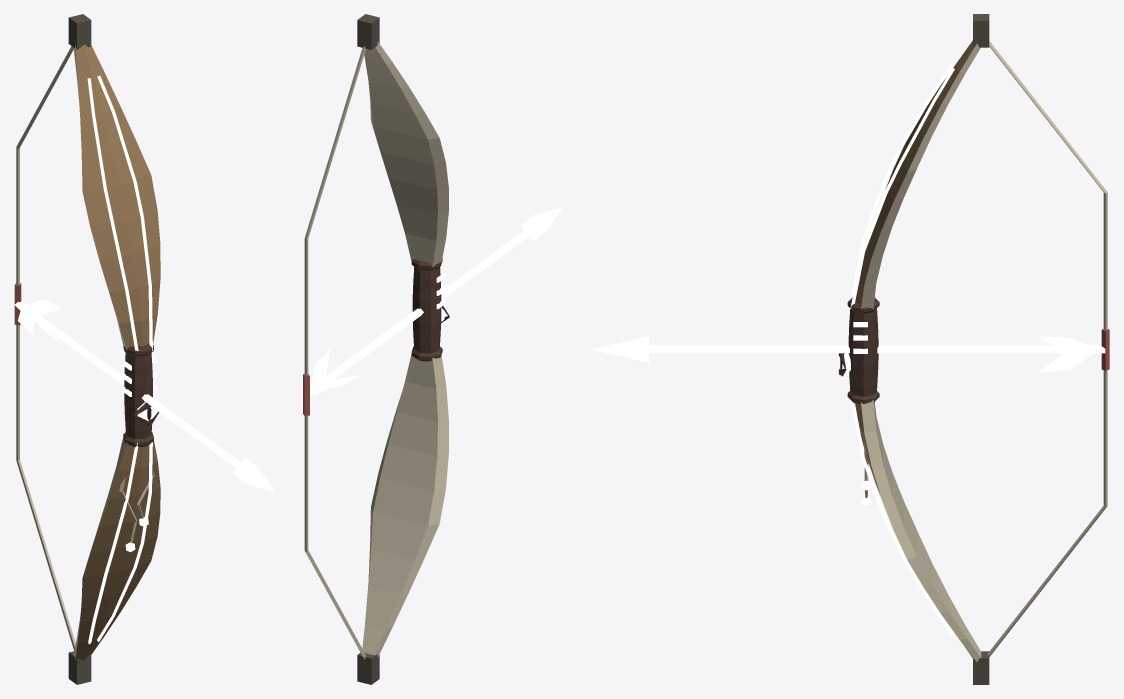
File: bow-held-breath.glb
3 views of the same model, side by side, from view 1: azimuth 30°, elevation 25°; view 2: azimuth 150°, elevation 25°; view 3: azimuth 270°, elevation 25° (orthographic).
Parts seen in each view (by area): view 1: bow-held-breath, pulse_vein, pulse_arrow, string; view 2: bow-held-breath, pulse_arrow, string; view 3: bow-held-breath, pulse_arrow, string, pulse_vein.
Boxes of the visible parts, <box> form: bow-held-breath: <box>68,14,160,684</box>; pulse_vein: <box>87,75,152,644</box>; pulse_arrow: <box>14,298,274,491</box>; string: <box>14,46,75,650</box>; bow-held-breath: <box>357,14,448,684</box>; pulse_arrow: <box>310,207,562,396</box>; string: <box>303,46,365,659</box>; bow-held-breath: <box>847,14,989,684</box>; pulse_arrow: <box>591,336,1105,372</box>; string: <box>987,41,1109,656</box>; pulse_vein: <box>850,63,954,635</box>.
Size of the model in its own units: 0.1633 by 1.5 by 1.06.
